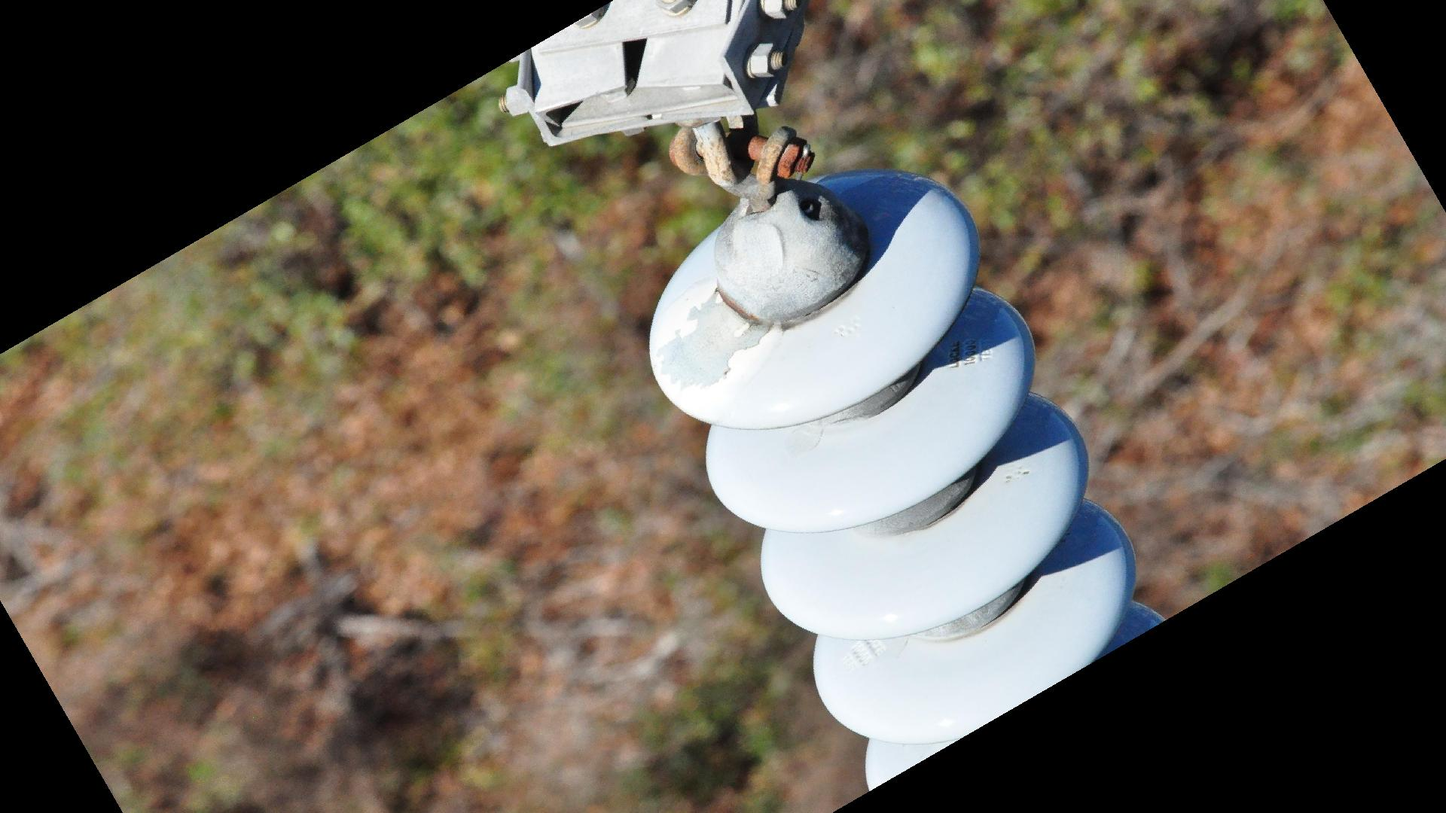insulator: (639, 163, 1167, 796)
insulator_flashover: (648, 291, 762, 394)
